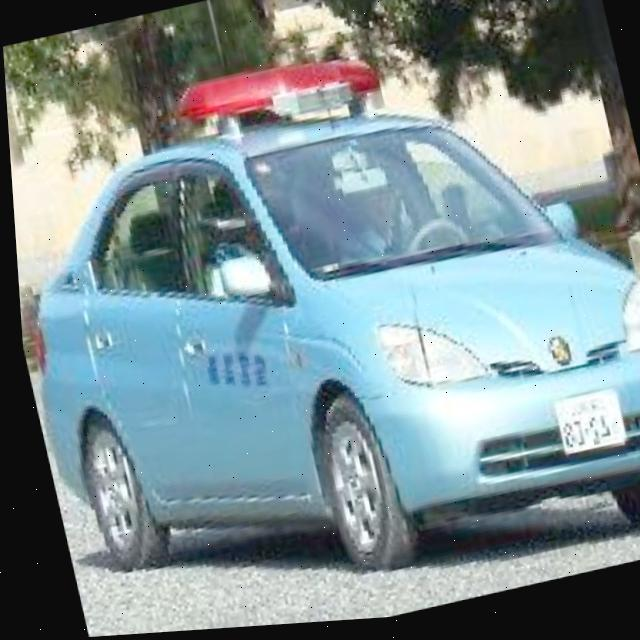emergency: (1, 0, 640, 640)
